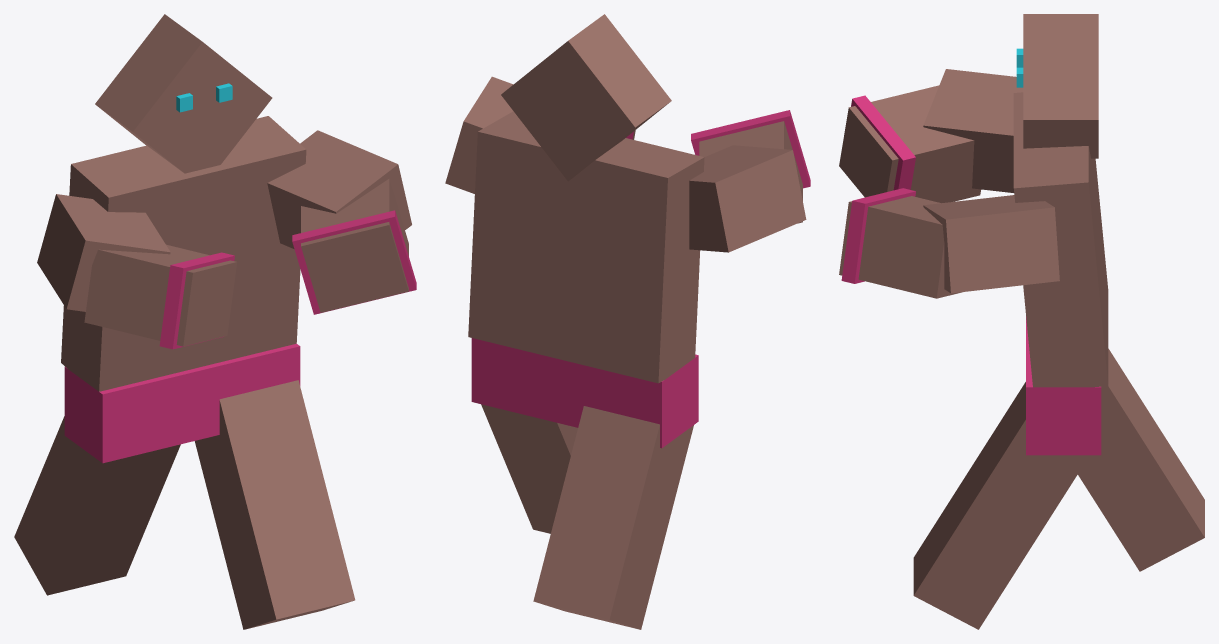
File: Fighter.fbx
3 views of the same model, side by side, from view 1: azimuth 30°, elevation 25°; view 2: azimuth 150°, elevation 25°; view 3: azimuth 270°, elevation 25° (orthographic). The views are drawn at different scales.
Visible parts, largest first — view 1: Cube.001, Cube.002, Cube.003, Cube.007, Cube.011, Cube.010; view 2: Cube.001, Cube.003, Cube.007, Cube.002, Cube.010; view 3: Cube.001, Cube.002, Cube.003, Cube.007, Cube.011, Cube.010.
Boxes of the visible parts, <box> form: Cube.001: <box>37,14,411,391</box>; Cube.002: <box>194,380,355,629</box>; Cube.003: <box>14,416,180,595</box>; Cube.007: <box>64,343,300,463</box>; Cube.011: <box>292,210,416,314</box>; Cube.010: <box>159,252,234,349</box>; Cube.001: <box>445,14,806,383</box>; Cube.003: <box>533,406,693,629</box>; Cube.007: <box>471,338,698,448</box>; Cube.002: <box>481,404,577,533</box>; Cube.010: <box>691,110,810,188</box>; Cube.001: <box>839,14,1108,387</box>; Cube.002: <box>913,382,1089,629</box>; Cube.003: <box>1078,348,1204,571</box>; Cube.007: <box>1026,316,1101,455</box>; Cube.011: <box>841,188,915,283</box>; Cube.010: <box>851,95,915,190</box>.
Size of the model in its own units: 105 by 167 by 97.34.
